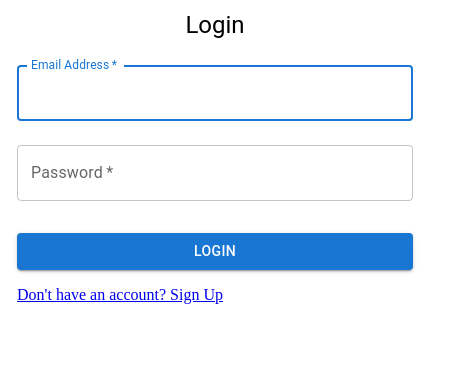
Test: LoginPage Component › displays error message on failed login
In the field labelled "Email Address *": (215, 93) x1=17 y1=65 x2=413 y2=121, type "test@example.com"
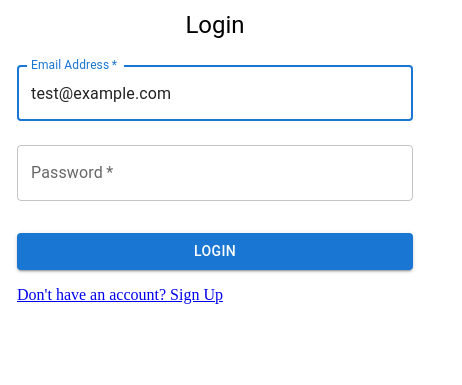
In the password field labelled "Password *": (215, 173) x1=17 y1=145 x2=413 y2=201, type "wrongpassword"
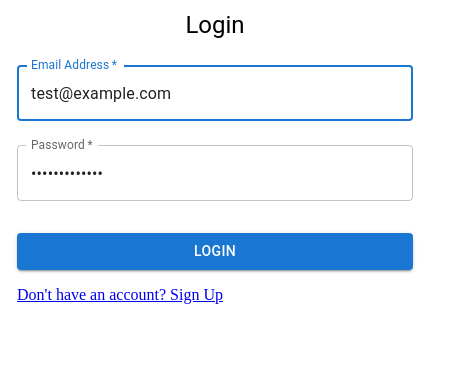
Click the button "Login": (215, 251) x1=17 y1=233 x2=413 y2=270
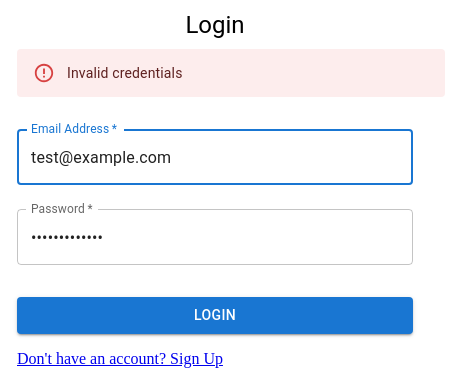
Now the text "Invalid credentials" is shown, box x1=67 y1=65 x2=182 y2=81
